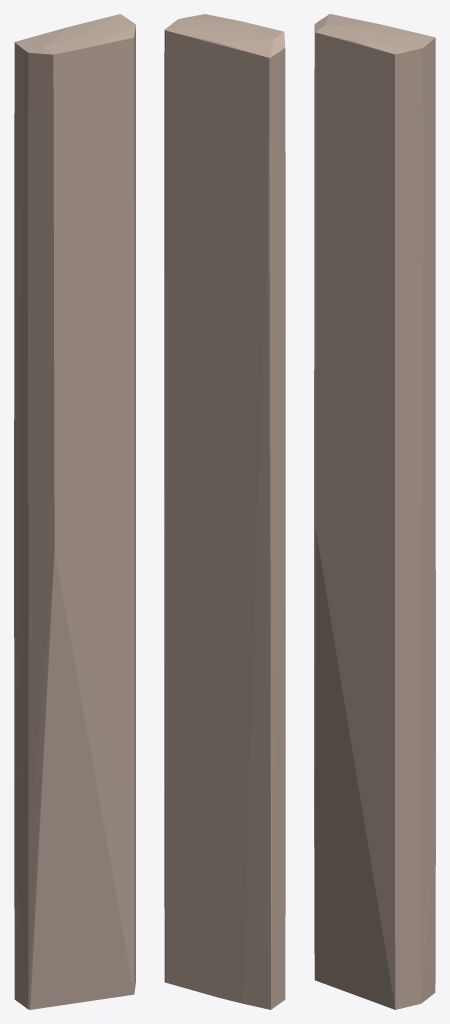
The model's file is extrusion_tSlot_aluminum_b06.glb.
3 renders of one model, left to right at view 1: azimuth 30°, elevation 25°; view 2: azimuth 150°, elevation 25°; view 3: azimuth 330°, elevation 25°, orthographic.
Visible parts, largest first — view 1: geometry_0; view 2: geometry_0; view 3: geometry_0.
Part boxes in pixels (x1,y1,x2,y2): geometry_0: [14, 14, 135, 1009]; geometry_0: [164, 14, 285, 1009]; geometry_0: [314, 14, 435, 1009].
Bounding box in the file's own units: 0.0567 × 0.48 × 0.0251.
